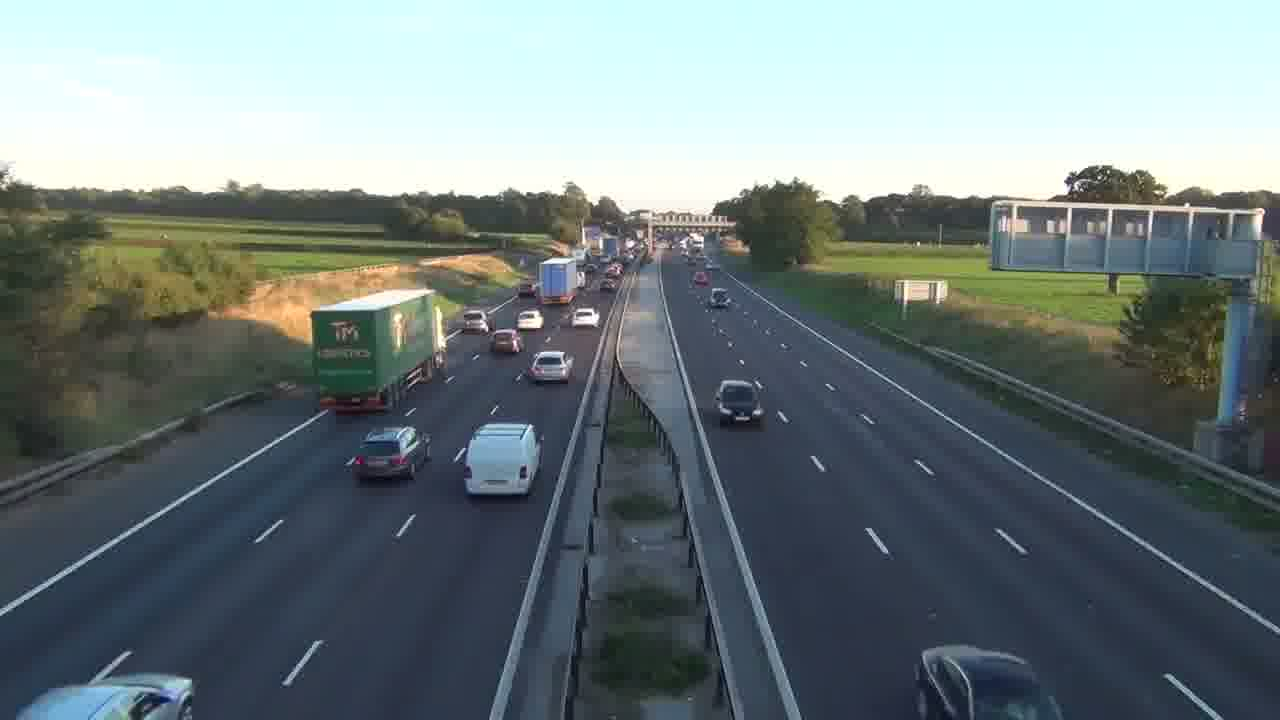car: (913, 643, 1066, 719), (15, 674, 194, 720), (346, 425, 432, 483), (714, 378, 765, 426), (528, 350, 575, 385), (572, 307, 599, 328)
truck: (310, 288, 441, 415), (462, 421, 544, 498), (533, 257, 584, 306)
